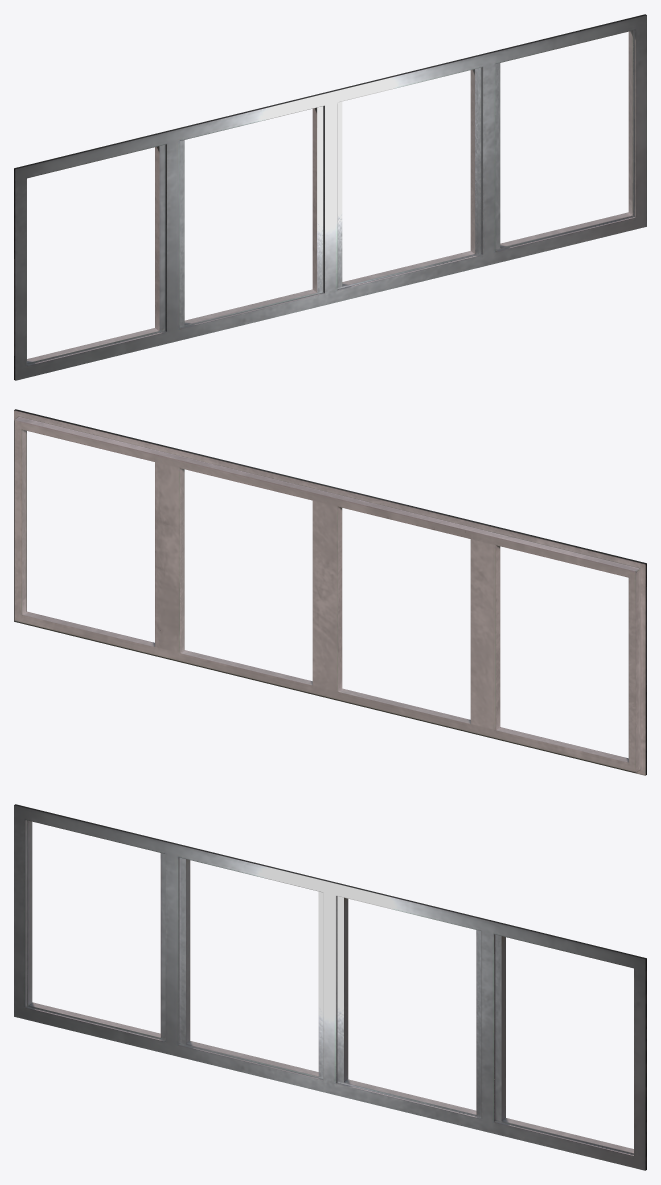
The model's file is window.glb.
3 renders of one model, top to bottom at view 1: azimuth 30°, elevation 25°; view 2: azimuth 150°, elevation 25°; view 3: azimuth 330°, elevation 25°, orthographic.
Visible parts, largest first — view 1: windows_Baked; view 2: windows_Baked; view 3: windows_Baked.
Part boxes in pixels (bbox=[...]): windows_Baked: bbox=[14, 14, 646, 380]; windows_Baked: bbox=[14, 409, 646, 775]; windows_Baked: bbox=[14, 804, 646, 1170].
Size of the model in its own units: 5 by 1.6 by 0.08.
1 material, 1 textured.
